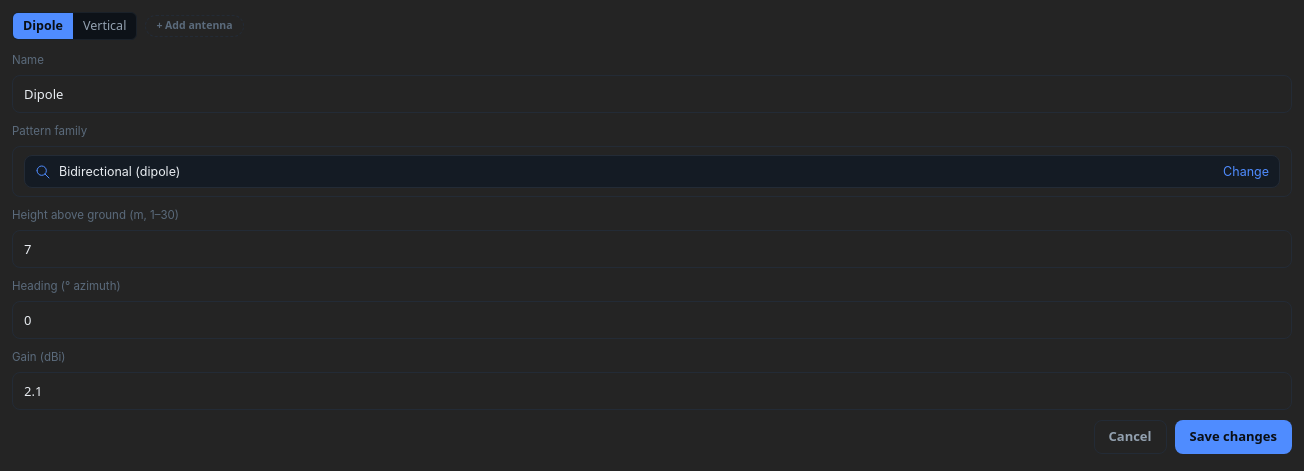
it: AntennaList › switches the active antenna in one click, and its form appears immediately
Click the button "Vertical" at (105, 26), box [73,13,136,39]
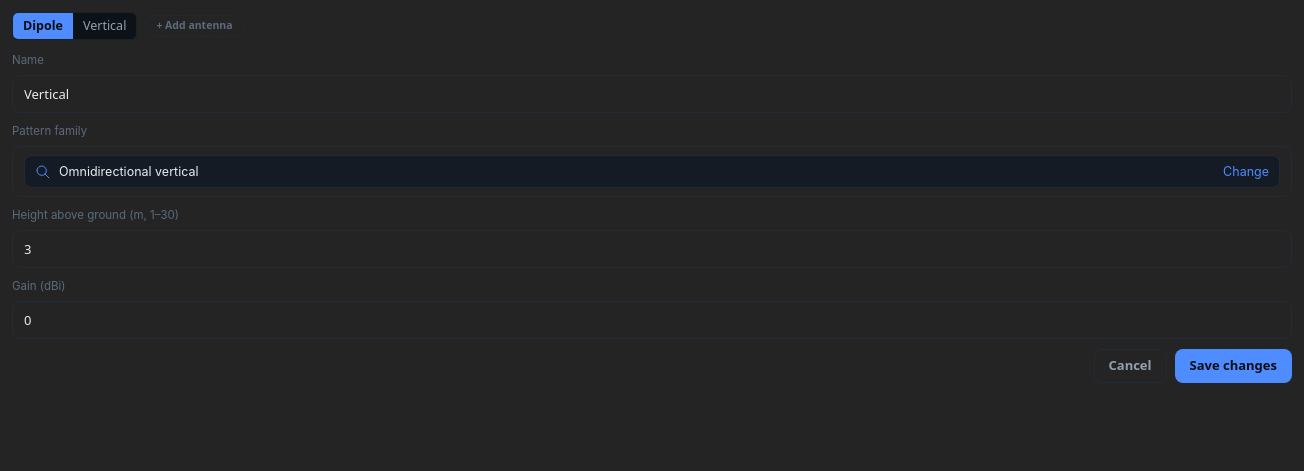
Result: the field with placeholder "e.g. 20m yagi" holds "Vertical" at [24,84,1280,104]
Result: the number field named "Height above ground (m)" holds "3" at [24,239,1280,259]
